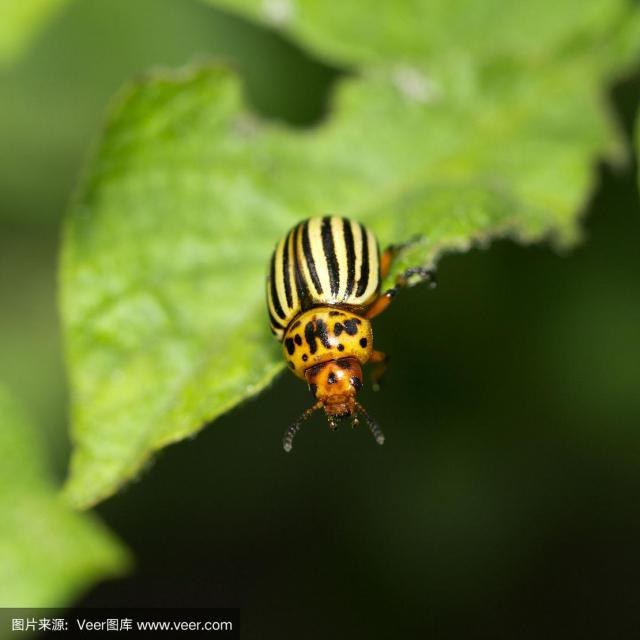ShuCaiHuaBanChong-Grown-: (247, 197, 406, 455)
